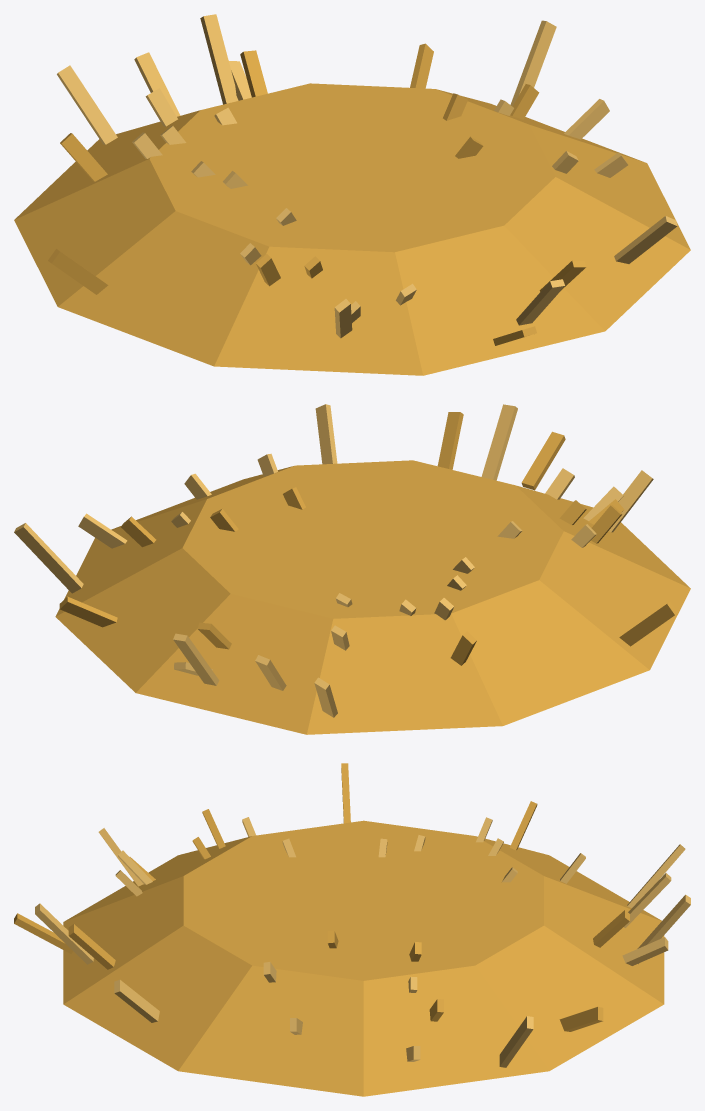
File: CornerStraw.fbx
The picture shows the model from 3 angles, top to bottom: view 1: azimuth 30°, elevation 25°; view 2: azimuth 150°, elevation 25°; view 3: azimuth 270°, elevation 25°; orthographic projection. The views are drawn at different scales.
Visible parts, largest first — view 1: CornerStraw; view 2: CornerStraw; view 3: CornerStraw.
Boxes of the visible parts, x1,y1,x2,y2 form: CornerStraw: [14, 14, 690, 375]; CornerStraw: [14, 404, 690, 734]; CornerStraw: [14, 763, 690, 1096].
Bounding box in the file's own units: 113 × 15.76 × 118.
